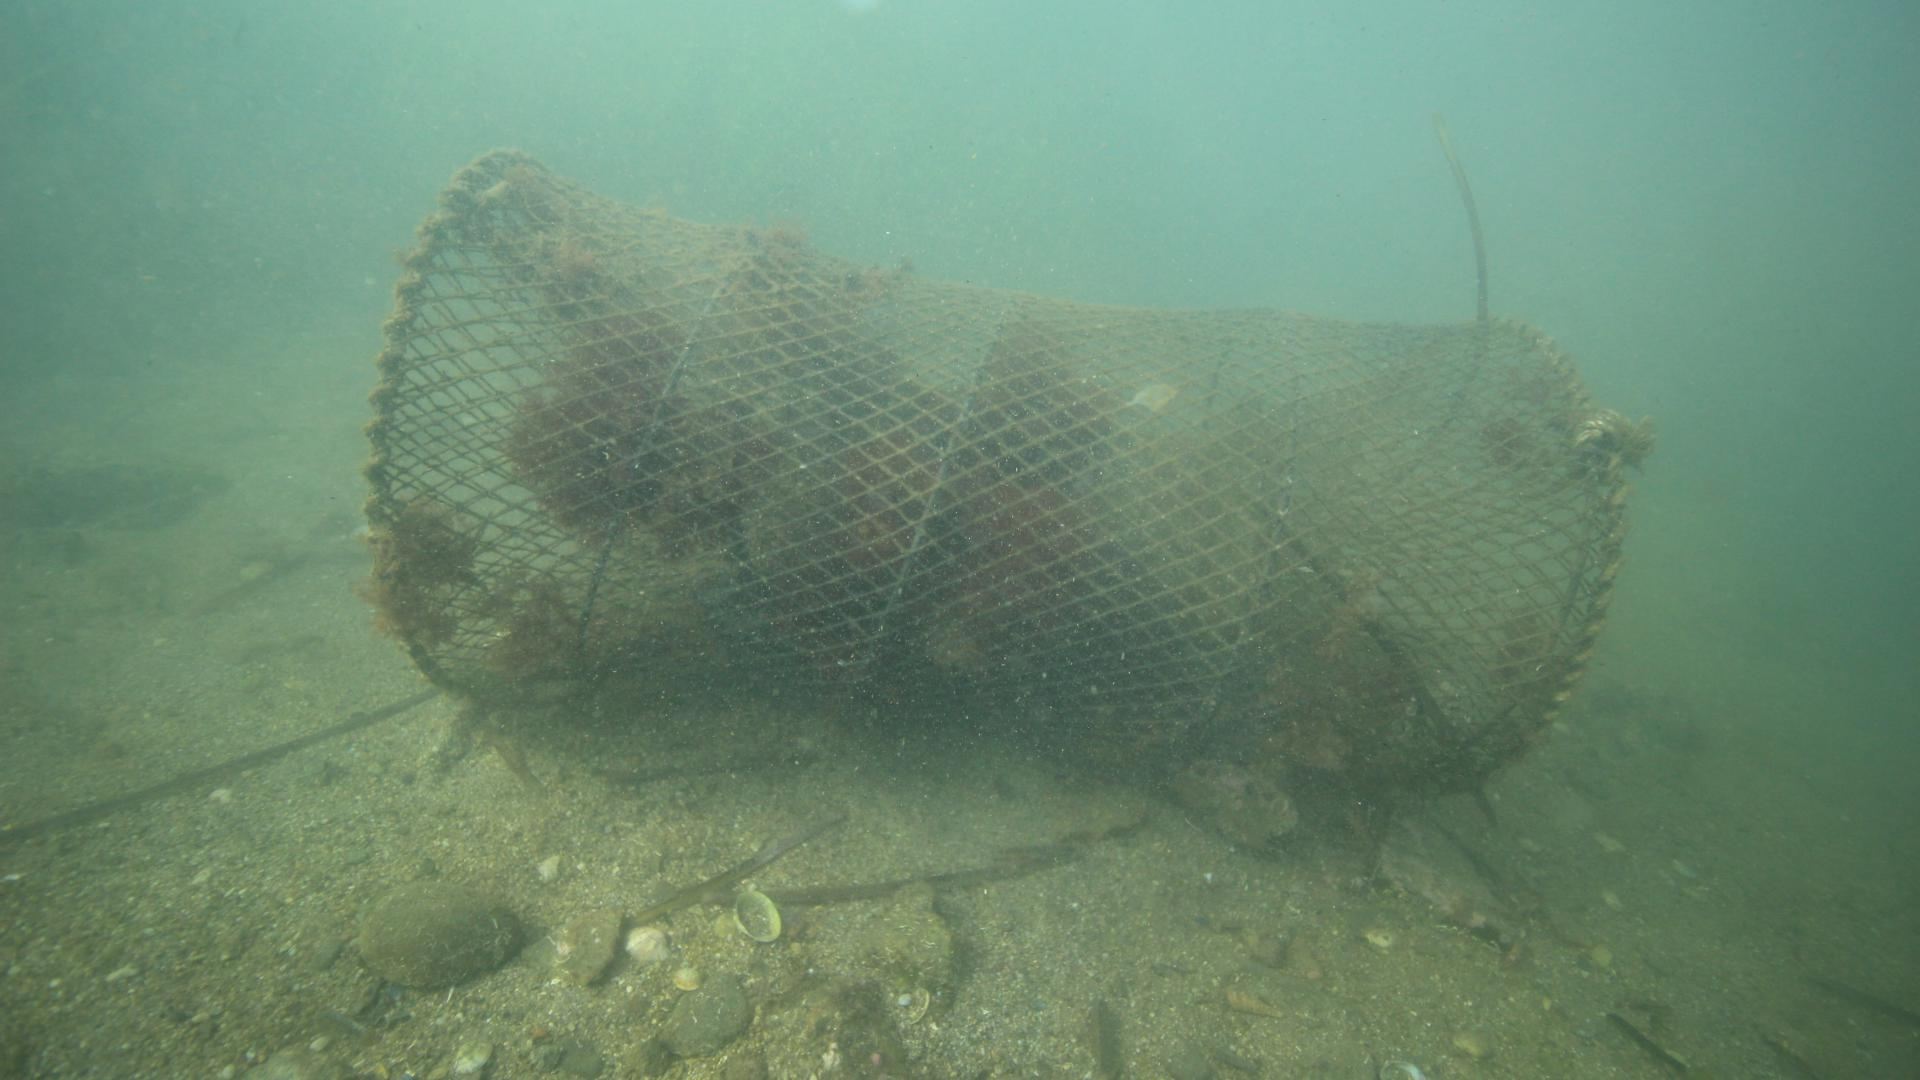spring fish trap: (361, 145, 1630, 806)
